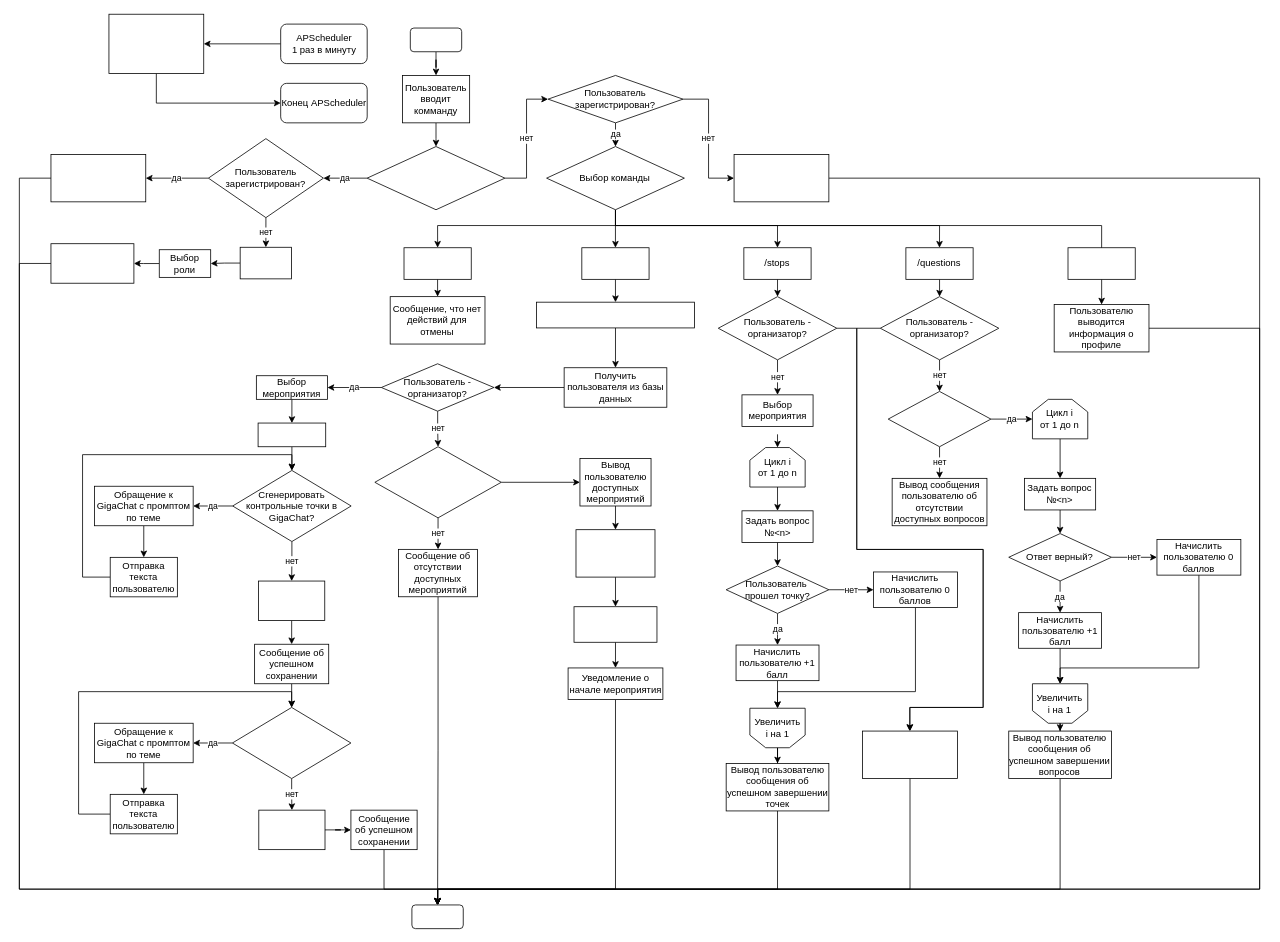
The diagram is 1280 pixels wide and 942 high, and some of its shapes have lost their labels. Here are the shapes that lost their labels. From the top down, the centre of each, then its label:
At [156,43]: "Отправить пользователям напоминания о мероприятиях".
At [436,39]: "Начало".
At [98,178]: "Сообщение пользователю, что он уже зарегистрирован".
At [435,178]: "Команда - /register?".
At [781,178]: "Сообщение о необходимости зарегистрироваться".
At [92,263]: "Добавление пользователя в базу данных".
At [265,262]: "Ввод имени".
At [437,263]: "/cancel".
At [615,263]: "/start".
At [1101,263]: "/me".
At [615,314]: "Парсинг https://extra.hse.ru/announcements".
At [291,434]: "Парсинг мероприятия".
At [939,419]: "Мероприятие закончилось?".
At [437,482]: "Есть доступные мероприятия для пользователя?".
At [615,553]: "Запись на выбранное пользователем мероприятие".
At [291,600]: "Ввод контрольных точек".
At [615,624]: "Уведомление за час до начала мероприятия".
At [291,743]: "Сгенерировать контрольные вопросы в GigaChat?".
At [909,754]: "Сообщить пользователю, что команда недоступна".
At [291,829]: "Ввод контрольных вопросов".
At [437,916]: "Конец".
